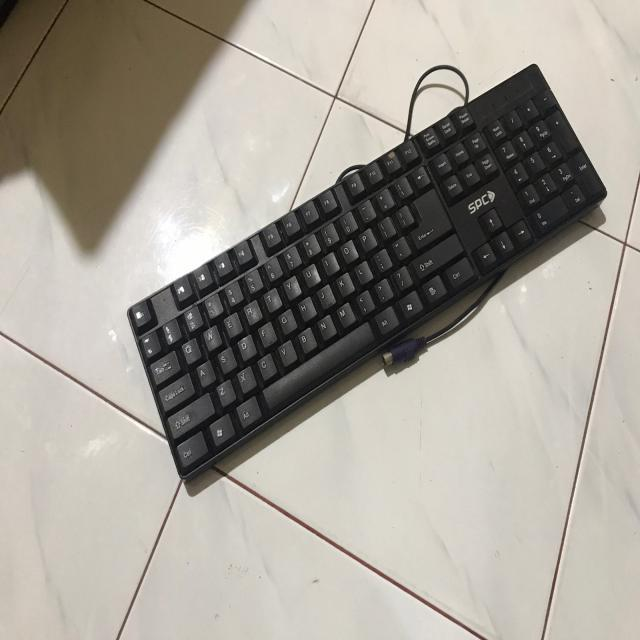-mouse-: (129, 63, 608, 483)
